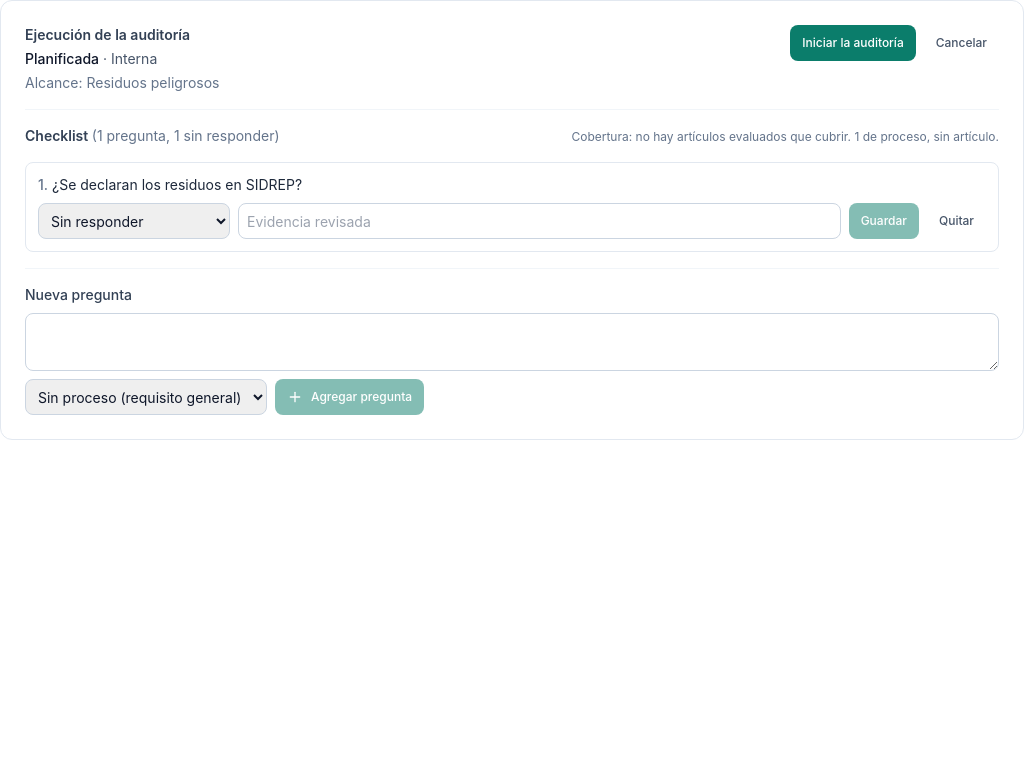
responder el checklist › agregar manda la pregunta sin resultado
The image size is (1024, 768).
Expected: the text "¿Se declaran los residuos en SIDREP?" is shown, [52, 176, 302, 193]
Type "¿Hay bodega techada?" into the text box labelled "Nueva pregunta" at point(512, 342), box [25, 313, 999, 371]
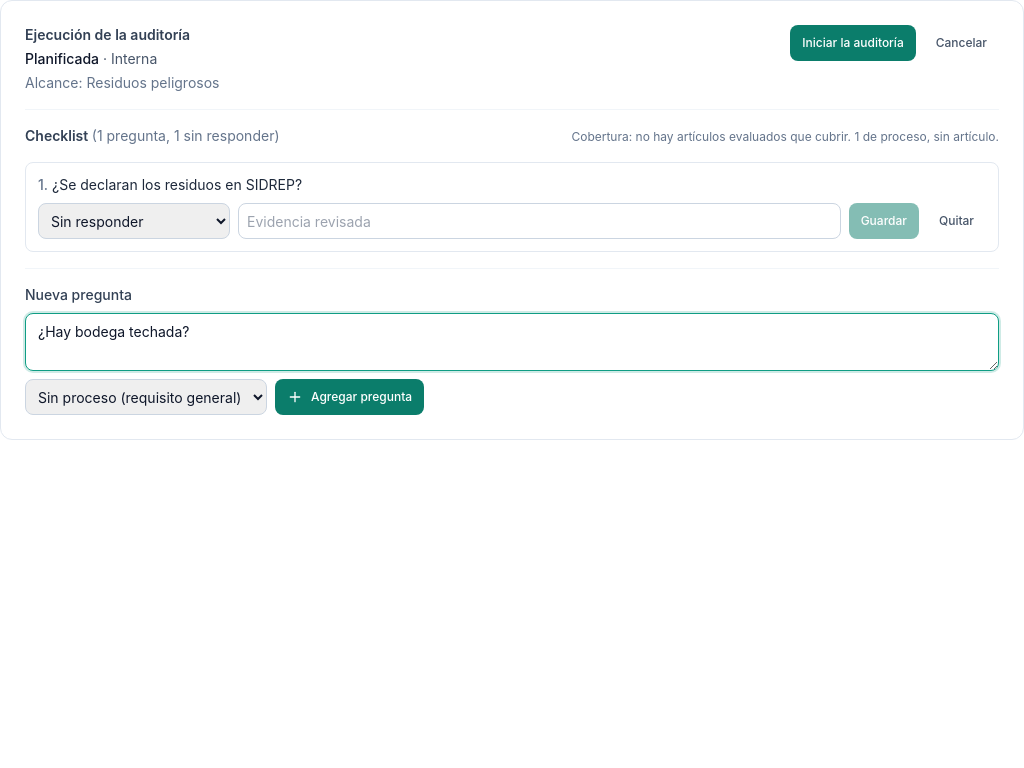
Click the button "Agregar pregunta" at point(350, 397), box [275, 379, 424, 415]
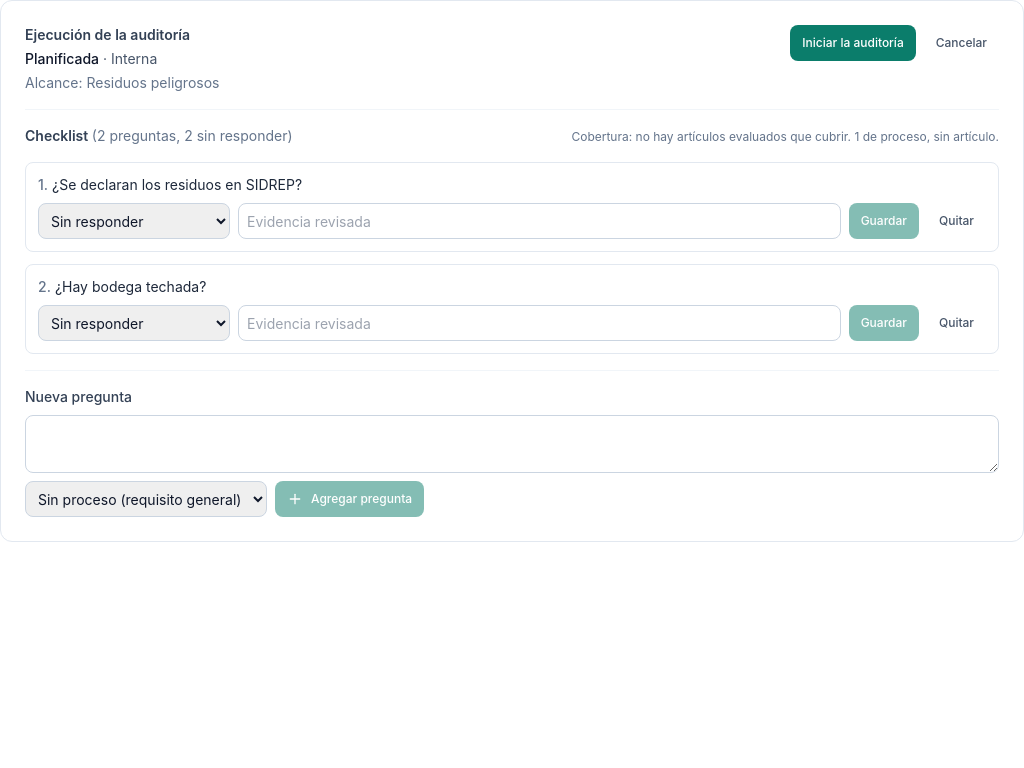
Expected: the text "¿Hay bodega techada?" is shown, [55, 278, 206, 295]
